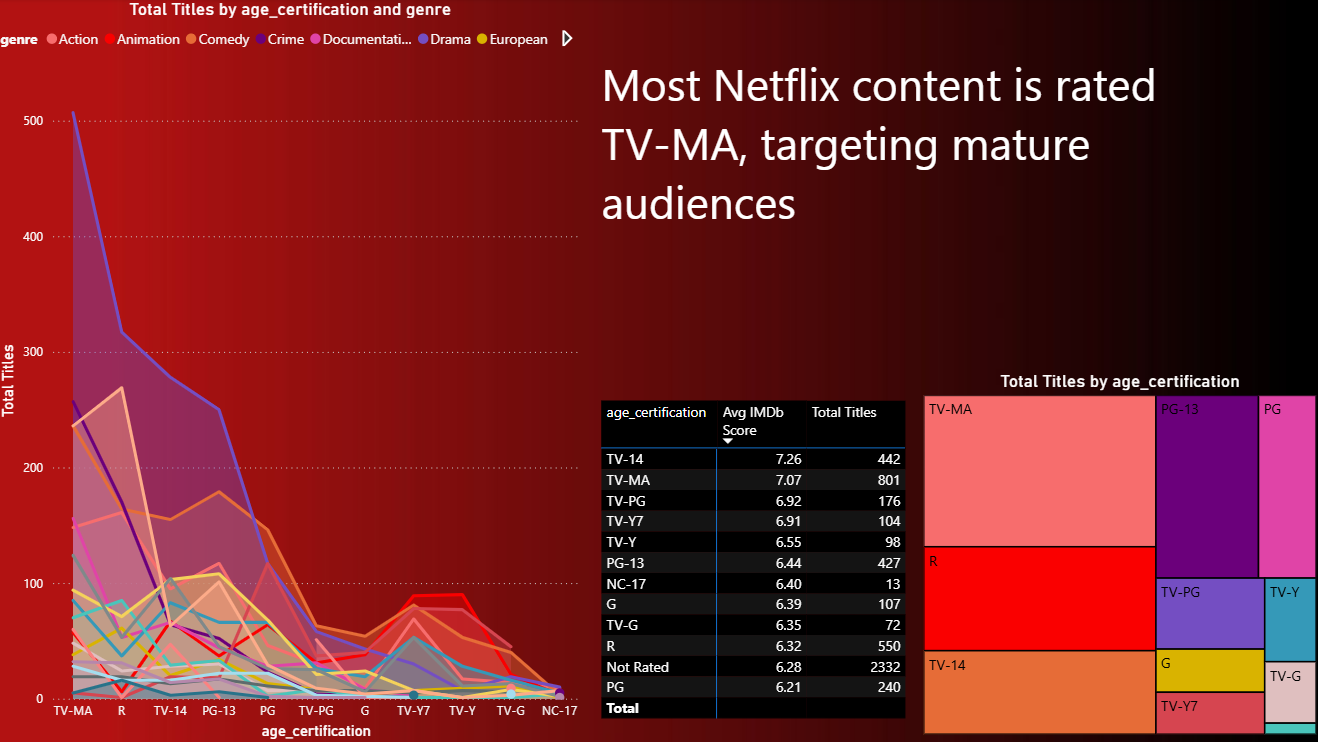

Layout of this report page (visuals, bound fields, positions):
{"tool":"powerbi","page":{"name":"Page 3","canvas":[1280,720],"ordinal":2},"visuals":[{"type":"treemap","fields":{"Group":["Title.age_certification"],"Values":["Title.Total Titles"]},"box":[891.2,360,388.8,356.2],"z":0},{"type":"areaChart","fields":{"Category":["Title.age_certification"],"Y":["Title.Total Titles"],"Series":["TitleGenres.genre"]},"box":[0,0,570,720],"z":1000},{"type":"pivotTable","fields":{"Rows":["Title.age_certification"],"Values":["Title.Avg IMDb Score","Title.Total Titles"]},"box":[580,383.8,311.2,336.2],"z":2000},{"type":"textbox","box":[580,48.8,605,270],"z":3000}]}

Visuals, with their boxes in screenshot pixels (x1, y1, x2, y2), scaled from the page's 1280x720 canvas onto the 1318x742 screenshot:
treemap - Title.age_certification x Title.Total Titles: bbox=(918, 371, 1317, 738)
areaChart - Title.age_certification x Title.Total Titles: bbox=(0, 0, 587, 741)
pivotTable - Title.age_certification x Title.Avg IMDb Score: bbox=(597, 396, 918, 741)
textbox: bbox=(597, 50, 1220, 329)
